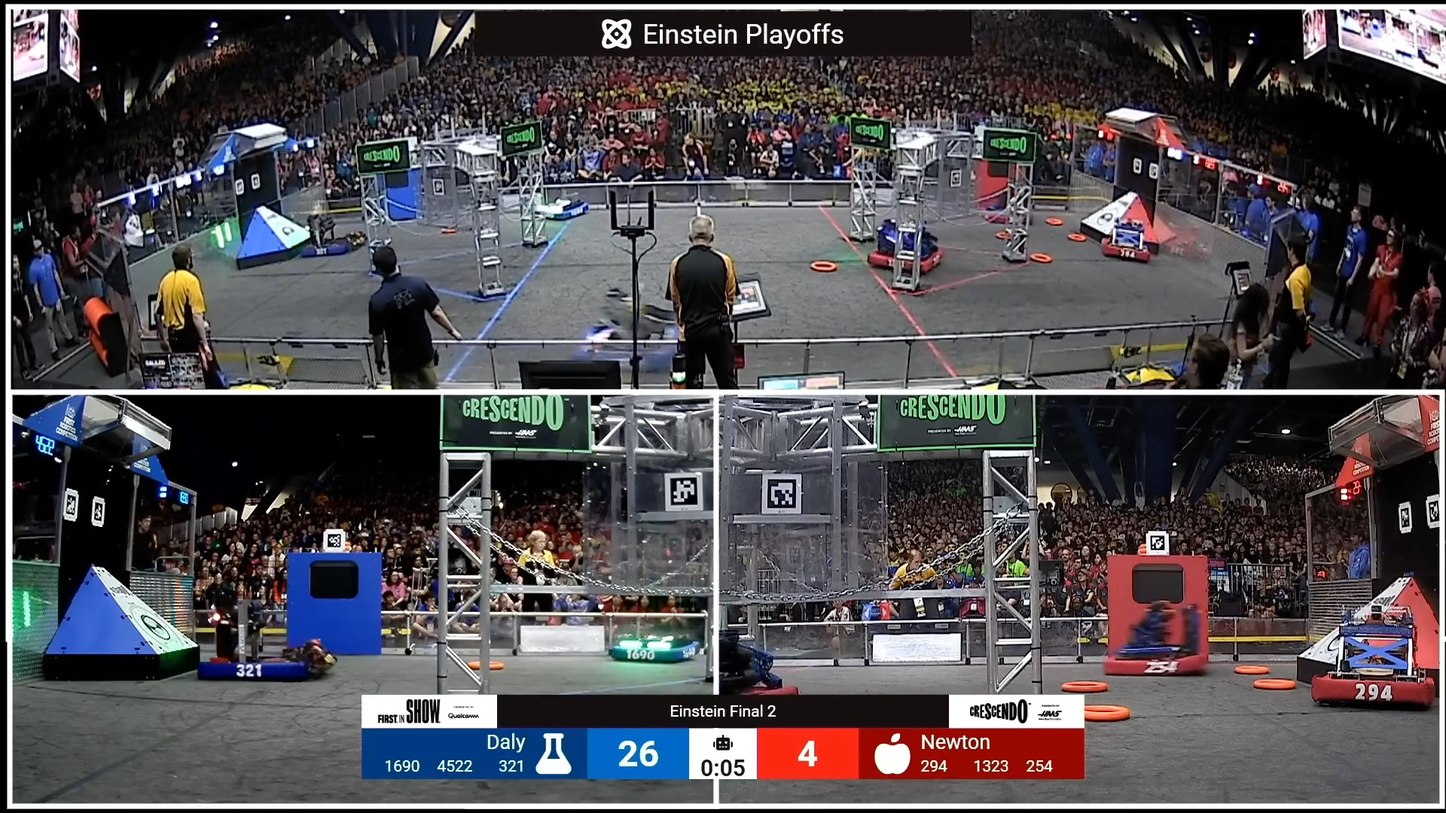bumpers: (577, 317, 686, 374), (1098, 626, 1208, 680), (203, 648, 343, 689), (1307, 670, 1437, 708), (859, 241, 950, 277), (608, 642, 702, 670), (302, 234, 366, 258), (527, 203, 595, 225), (1102, 236, 1156, 262)
